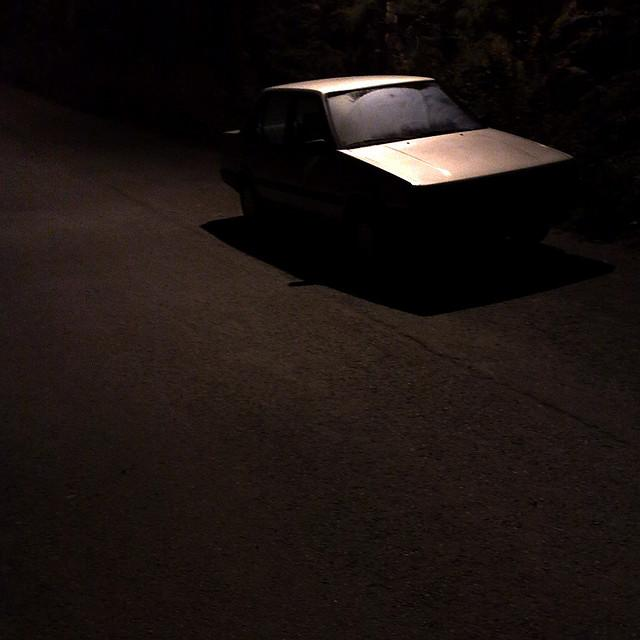car: (218, 57, 583, 301)
